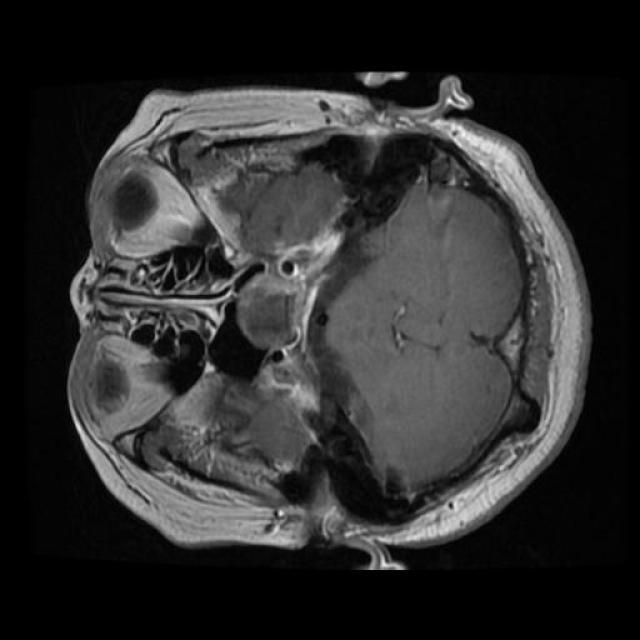Pituitary: (236, 272, 304, 349)
